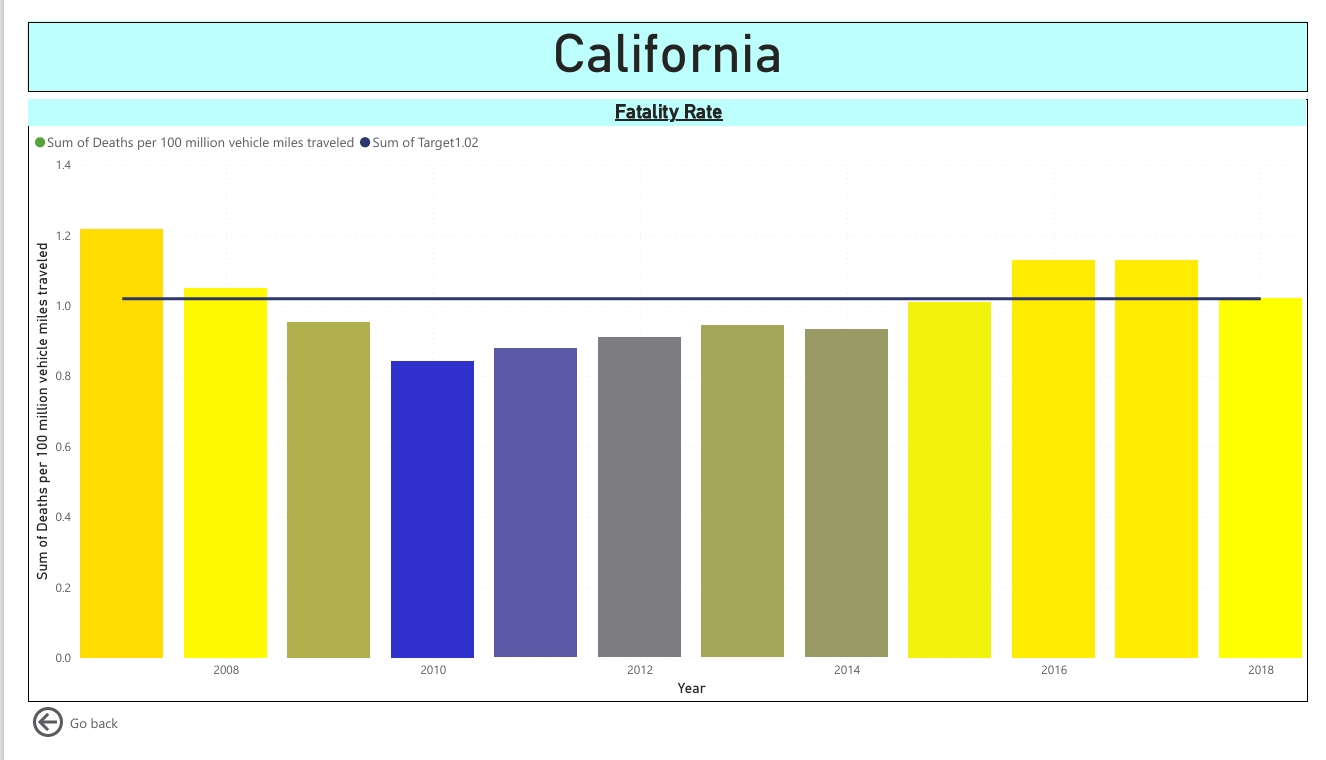

The page's visual inventory and layout, read from the dashboard file:
{"tool":"powerbi","page":{"name":"Fatality rate","canvas":[1280,720],"ordinal":3},"visuals":[{"type":"lineClusteredColumnComboChart","title":"Fatality Rate","fields":{"Category":["PA - Driving Safety.Year"],"Y":["Sum(PA - Driving Safety.Deaths per 100 million vehicle miles traveled)"],"Y2":["Sum(PA - Driving Safety.Target1.02)"]},"box":[0,76.6,1280,603.2],"z":0},{"type":"actionButton","box":[0,679.8,94.3,40.3],"z":1000},{"type":"card","fields":{"Values":["Min(PA - Driving Safety.State)"]},"box":[0,0,1280,69.7],"z":2000}]}

Visuals, with their boxes in screenshot pixels (x1, y1, x2, y2), scaled from the page's 1280x720 canvas onto the 1326x760 screenshot:
"Fatality Rate" lineClusteredColumnComboChart: 0 81 1325 718
actionButton: 0 718 98 759
card - Min(PA - Driving Safety.State): 0 0 1325 74
